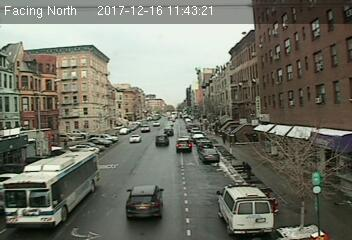bus: (2, 146, 101, 231)
car: (125, 184, 166, 218), (201, 147, 220, 162), (176, 136, 192, 153), (155, 134, 169, 144), (128, 134, 141, 142)
police: (217, 181, 274, 233)
